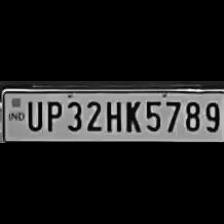2: (84, 97, 103, 132)
3: (62, 98, 82, 132)
5: (141, 98, 161, 132)
7: (162, 97, 180, 132)
8: (181, 98, 201, 132)
9: (202, 99, 222, 133)
H: (104, 98, 122, 132)
K: (122, 97, 142, 132)
P: (43, 98, 61, 132)
U: (24, 97, 42, 130)
